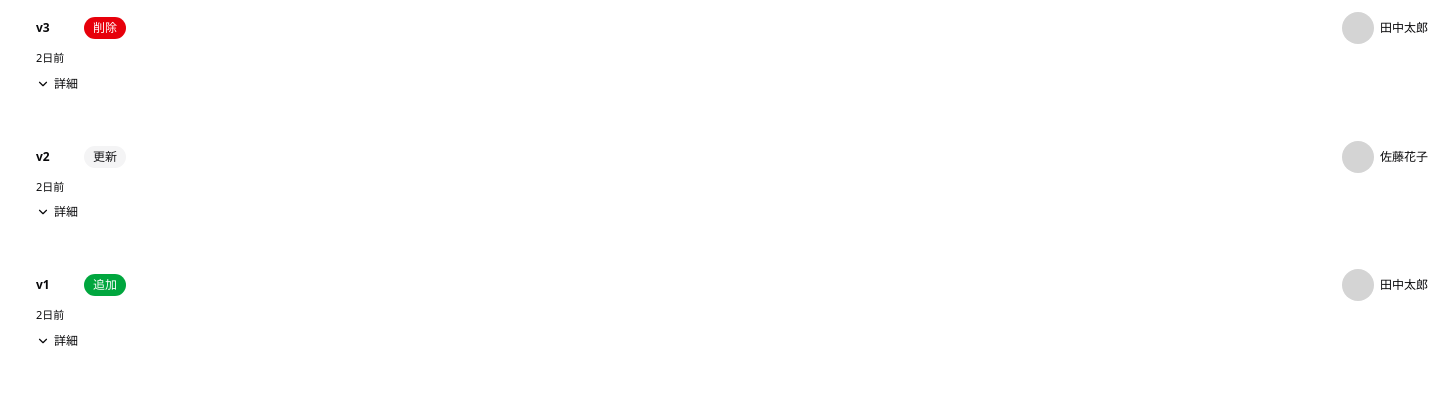
Test: HistoryList › 詳細トグルが展開/閉じできる
Click the button "詳細" below "削除" at x=57, y=84, box x1=36 y1=74 x2=78 y2=92
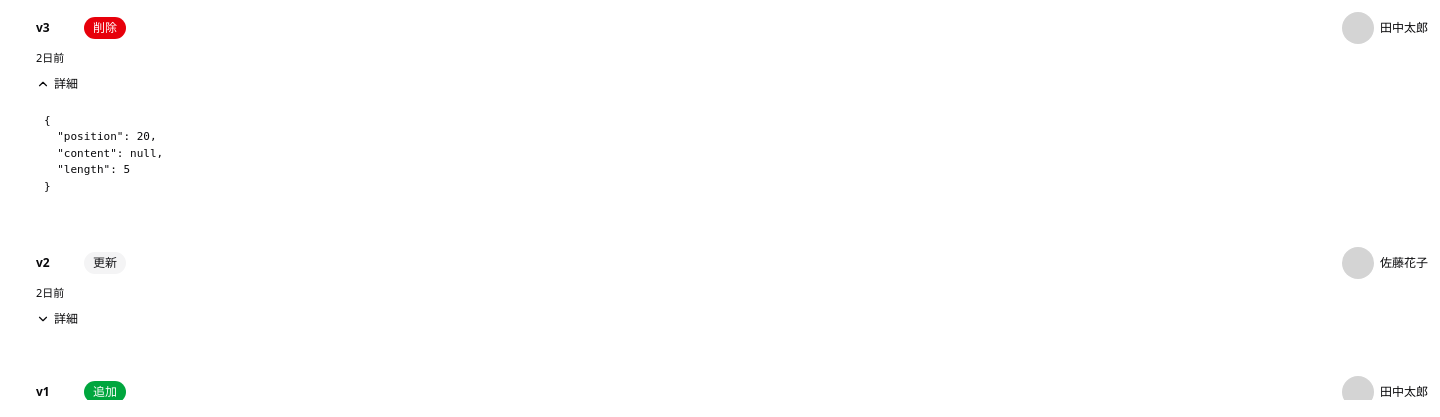
Result: the button "詳細" below "削除" is expanded
Click the button "詳細" below "削除" at x=57, y=84, box x1=36 y1=74 x2=78 y2=92
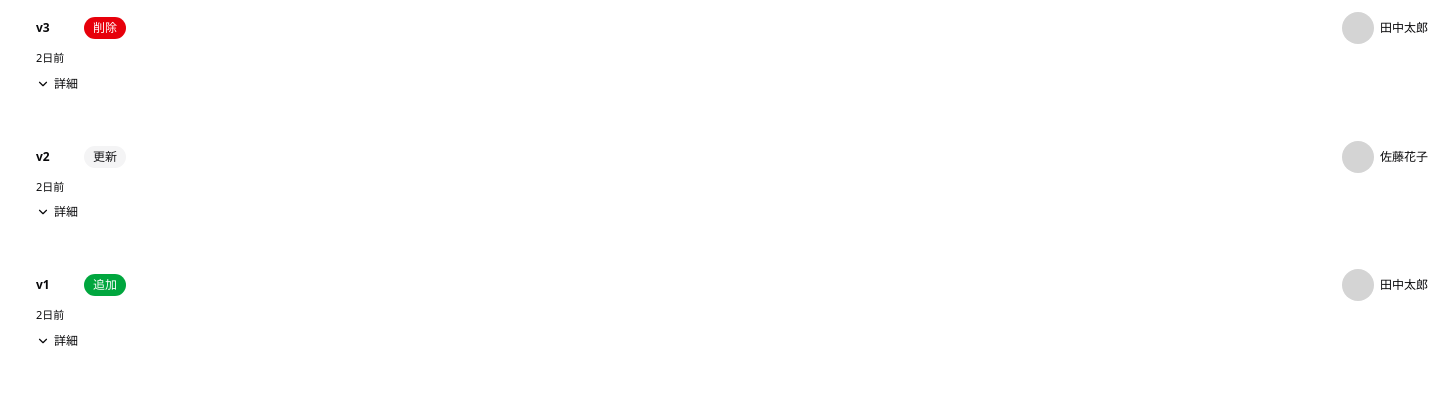
Result: the button "詳細" below "削除" is collapsed at x1=36 y1=74 x2=78 y2=92
